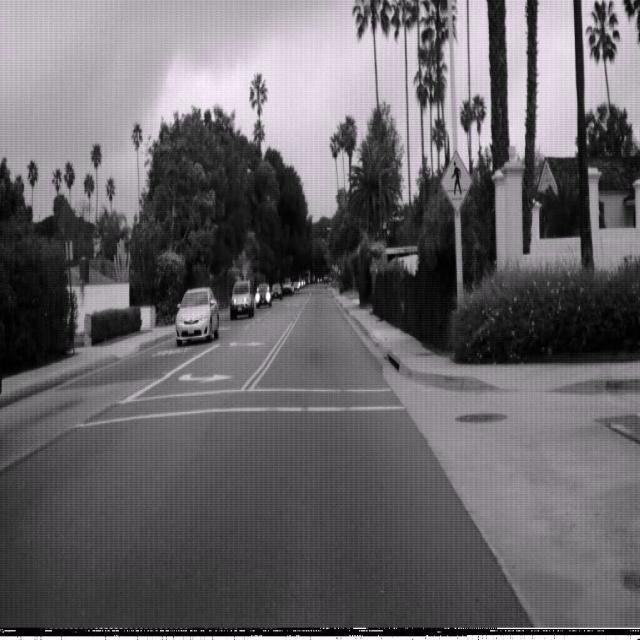pedestrianCrossing: (440, 148, 472, 214)
